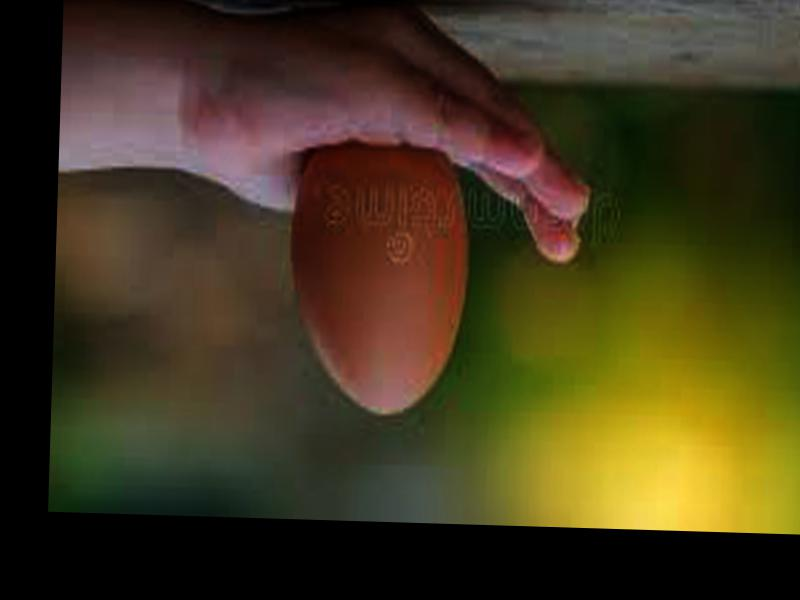Eggs: (282, 139, 469, 416)
